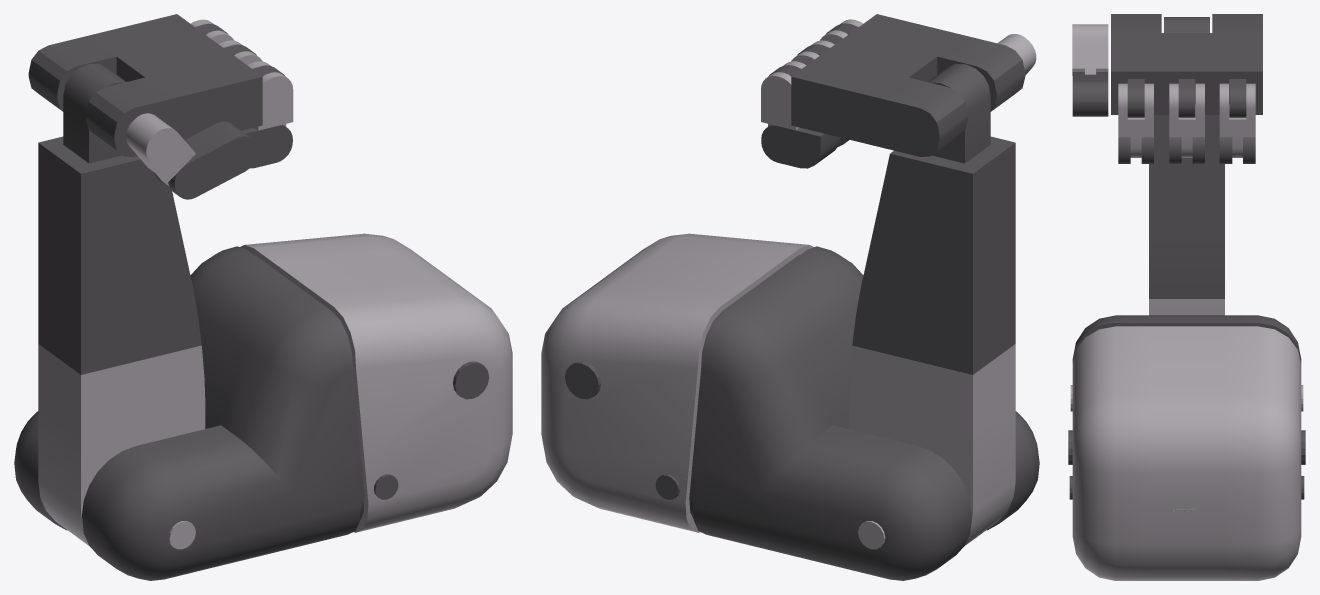
Rendered from mechanical_arm.gltf.
3 renders of one model, left to right at view 1: azimuth 30°, elevation 25°; view 2: azimuth 150°, elevation 25°; view 3: azimuth 270°, elevation 25°, orthographic. The views are drawn at different scales.
Parts seen in each view (by area): view 1: Cube.103; view 2: Cube.103; view 3: Cube.103.
Part boxes in pixels (box(x1,y1,x2,y2)): Cube.103: box(14, 14, 512, 580); Cube.103: box(541, 14, 1039, 580); Cube.103: box(1068, 14, 1305, 580).
Size of the model in its own units: 1.48 by 1.66 by 0.8422.
3 materials, 1 textured.
